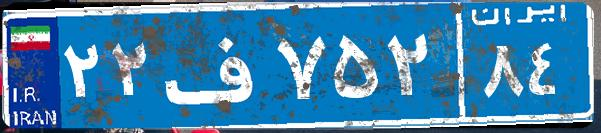2: (385, 28, 445, 110), (57, 26, 110, 107), (110, 28, 158, 105)
4: (525, 38, 570, 115)
5: (330, 28, 385, 110)
7: (273, 28, 330, 110)
8: (475, 38, 525, 113)
ف: (158, 15, 273, 115)
